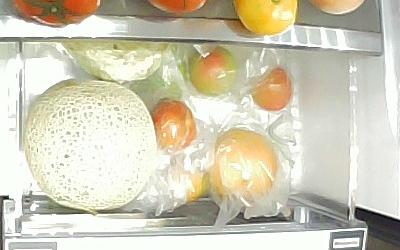cabbage: (58, 41, 170, 81)
melon: (23, 79, 157, 215)
pear_vinyl: (210, 128, 279, 203)
prune_vinyl: (153, 98, 198, 154)
tomato_vinyl: (191, 46, 237, 97), (250, 65, 293, 112)
